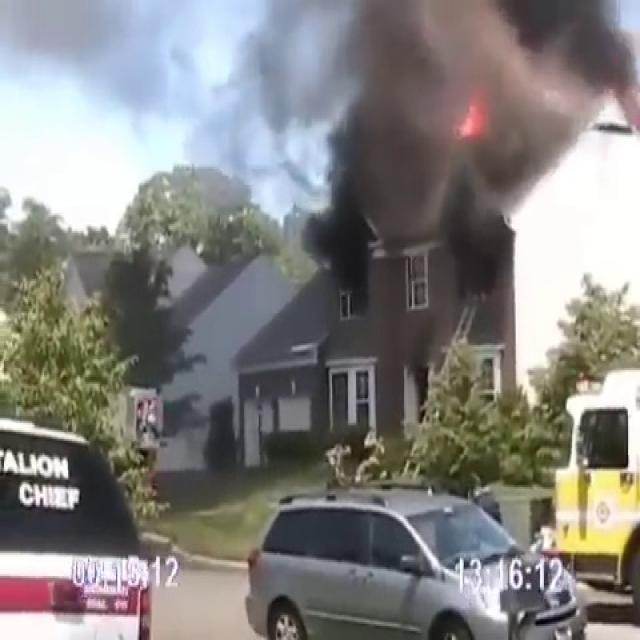Smoke: (246, 0, 640, 247)
